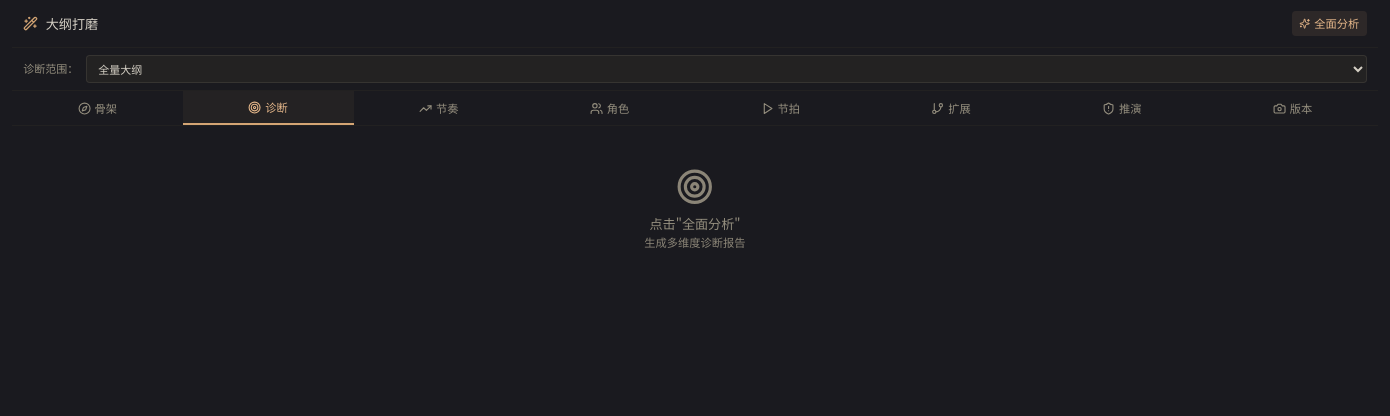
Scenario: OutlinePolishPanel › 默认显示诊断 tab，切到骨架 tab 显示核心驱动锁定
Expected: the text "点击\"全面分析\"" is shown, [649,214,740,232]
Click the button "骨架": [97, 108] box [12,91,183,125]
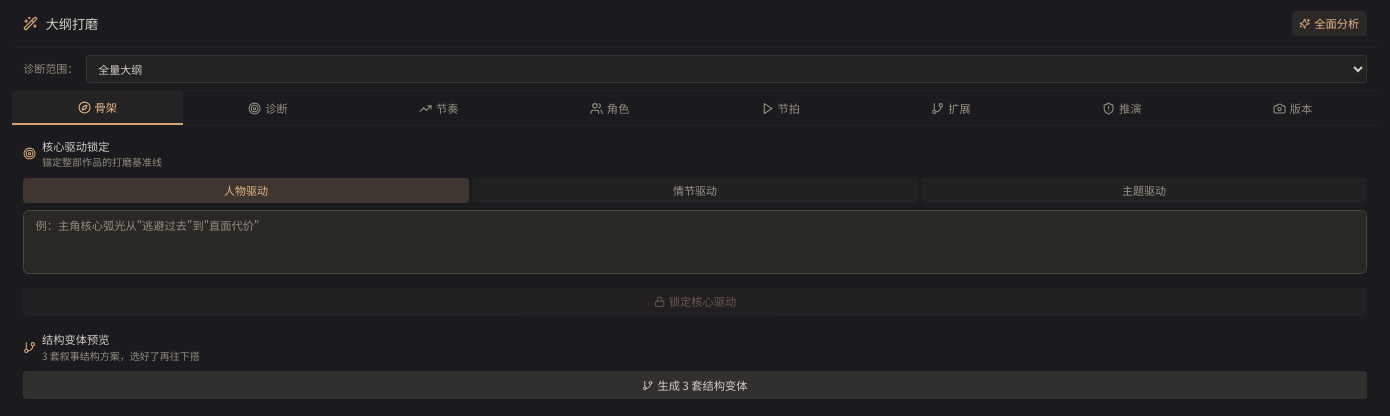
Expected: the text "核心驱动锁定" is shown, [42,138,110,154]
